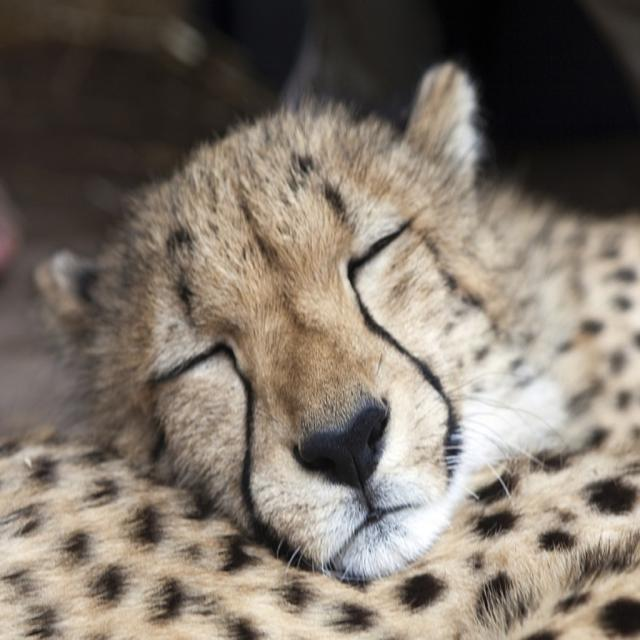Cheetah: (0, 61, 639, 639)
